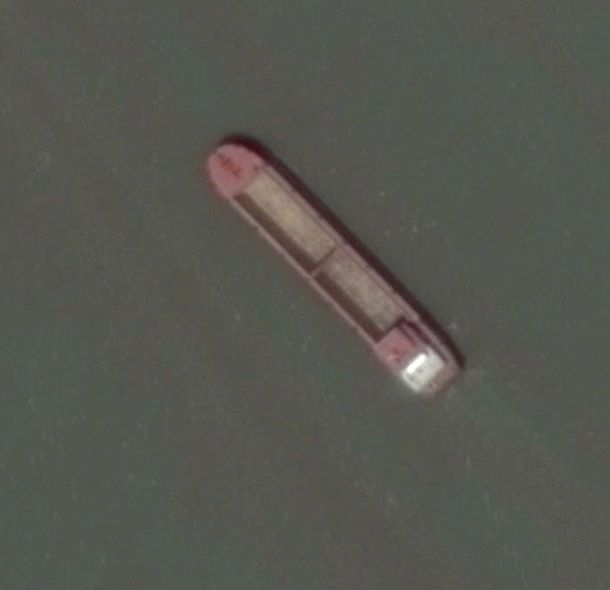boat: (204, 139, 466, 407)
